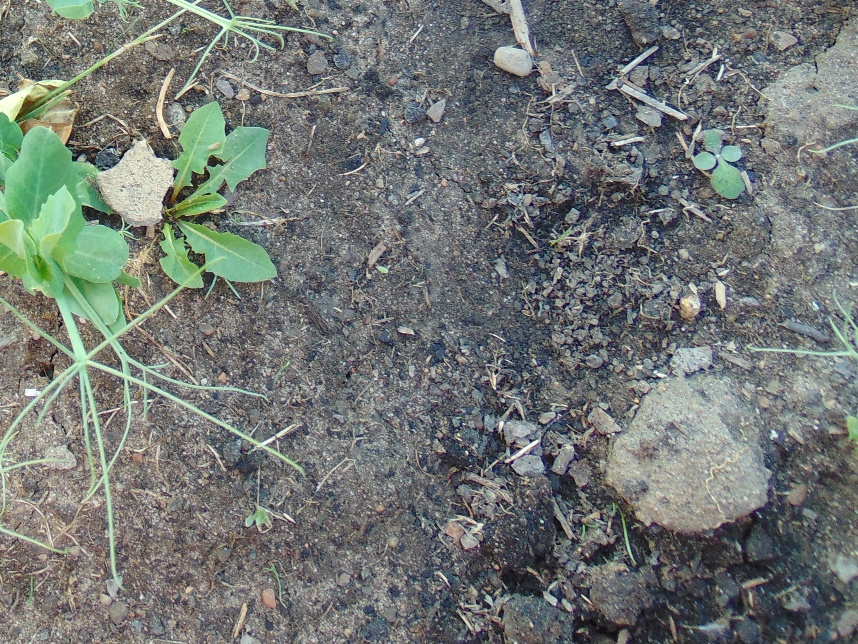crop: (1, 110, 169, 453), (39, 1, 284, 56), (829, 306, 858, 359), (1, 448, 30, 501)
weed: (159, 101, 281, 295), (691, 129, 743, 197)
